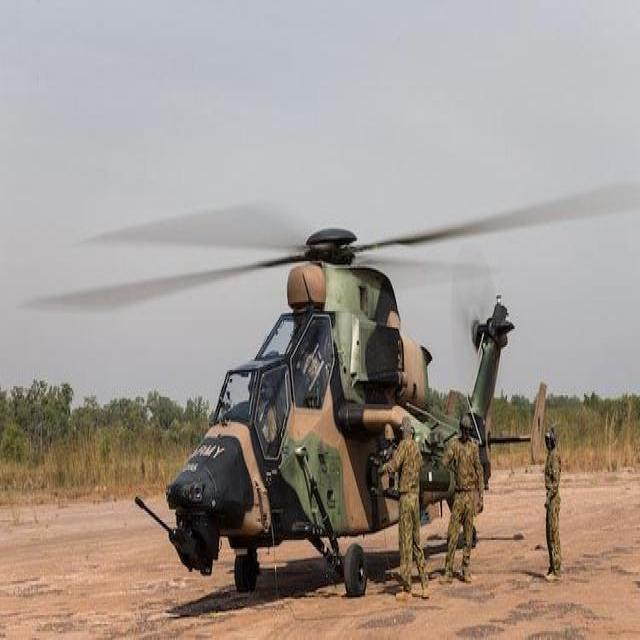MIL_HELO: (29, 179, 640, 610)
